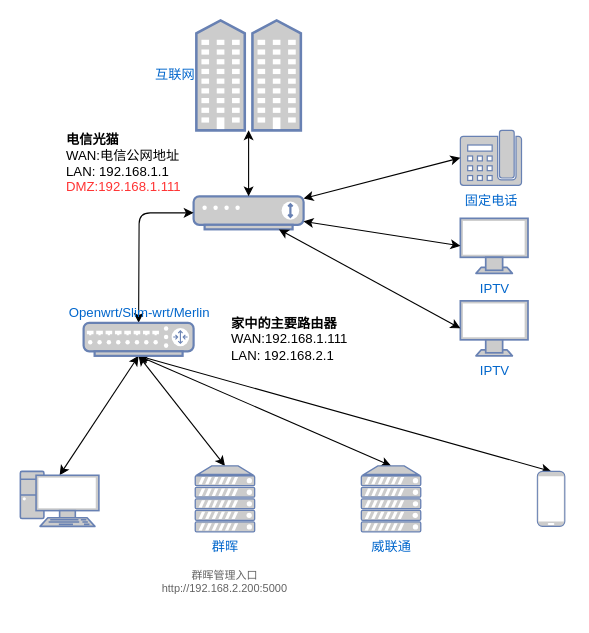
This 589x633 diagram has some shape labels left out. The shapes that lost their labels are listed below. From the top down, each one's centre as x and y in pixels, then its label:
(x=248, y=212): 电信光猫
(x=59, y=498): PC
(x=550, y=498): Phone
